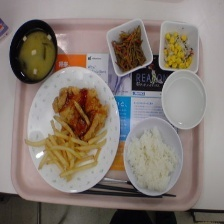rice: (123, 124, 181, 195)
